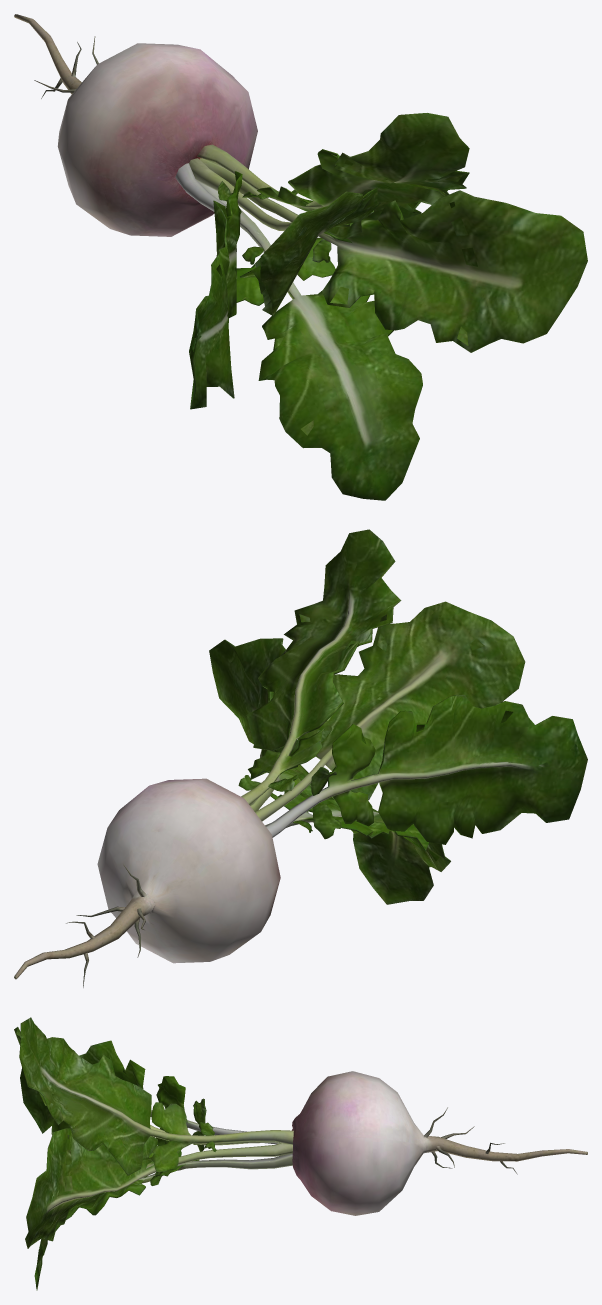
Rendered from 10210_Turnip_v1-L2.obj.
3 renders of one model, top to bottom at view 1: azimuth 30°, elevation 25°; view 2: azimuth 150°, elevation 25°; view 3: azimuth 270°, elevation 25°, orthographic. The views are drawn at different scales.
Parts seen in each view (by area): view 1: Turnip; view 2: Turnip; view 3: Turnip.
Part boxes in pixels (x1,y1,x2,y2): Turnip: [14, 14, 587, 500]; Turnip: [14, 529, 587, 987]; Turnip: [14, 1017, 587, 1290].
Size of the model in its own units: 68.69 by 63.82 by 119.
